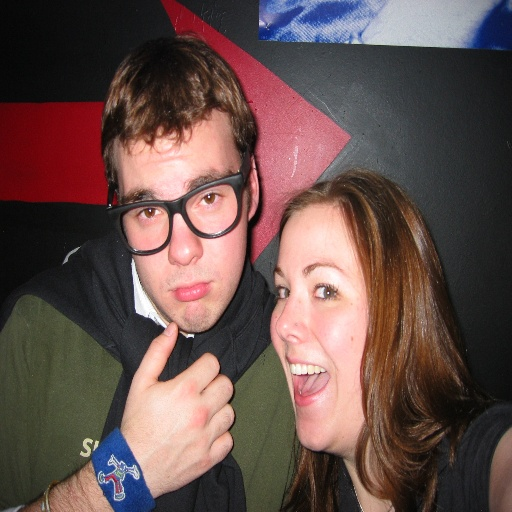hand: (81, 325, 242, 492)
